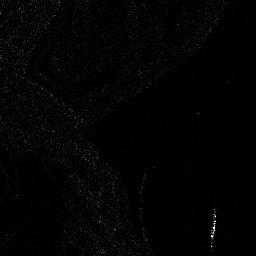ship: (208, 208, 217, 248)
